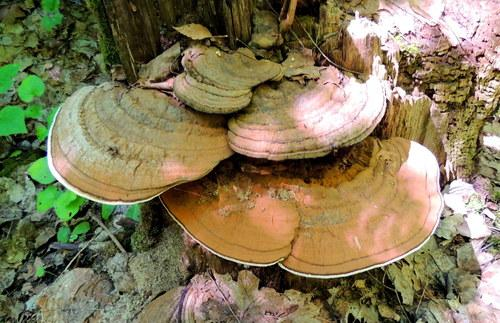Ganoderma - Fruit Body: (41, 43, 446, 276)
